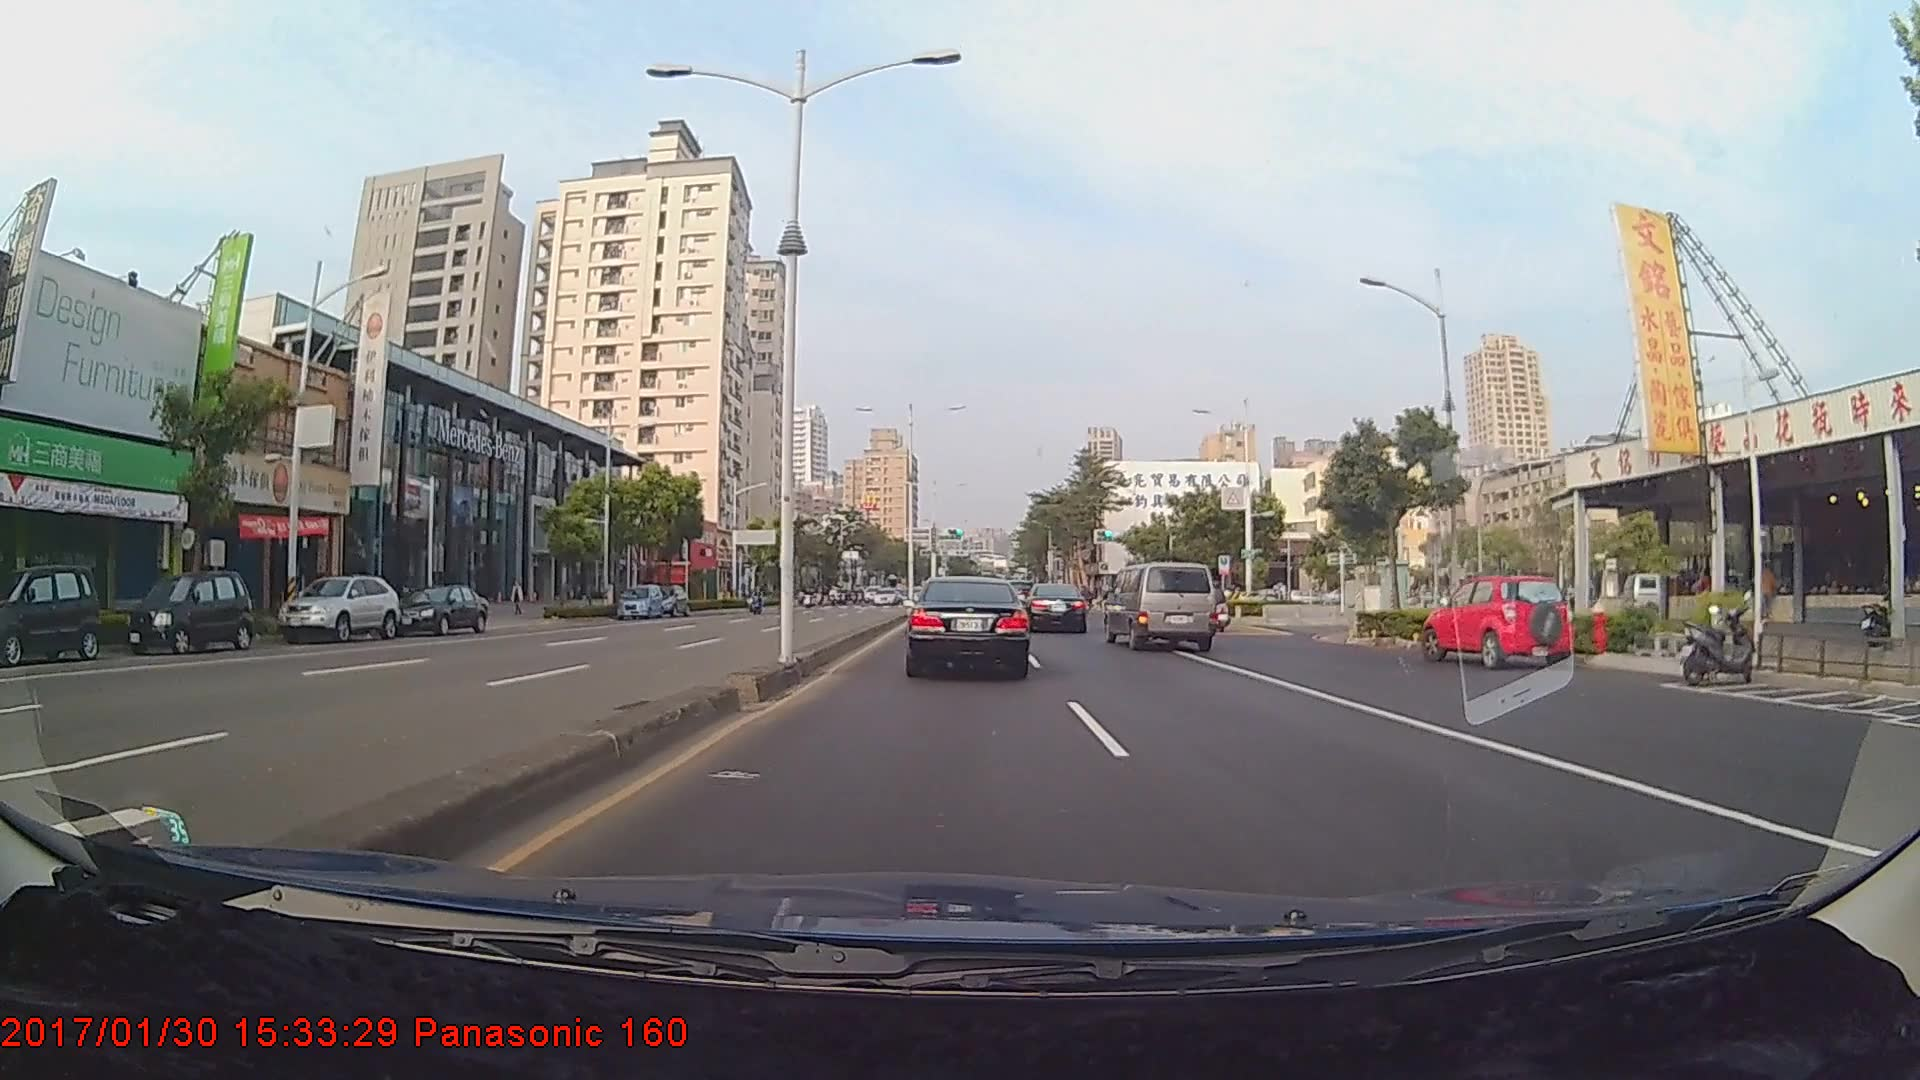vehicle: (1428, 572, 1569, 670), (903, 574, 1030, 678), (0, 560, 100, 669), (1102, 562, 1216, 651), (276, 574, 400, 642), (170, 571, 253, 653), (396, 583, 487, 637), (1023, 582, 1089, 634), (616, 582, 663, 621), (647, 585, 690, 618)
